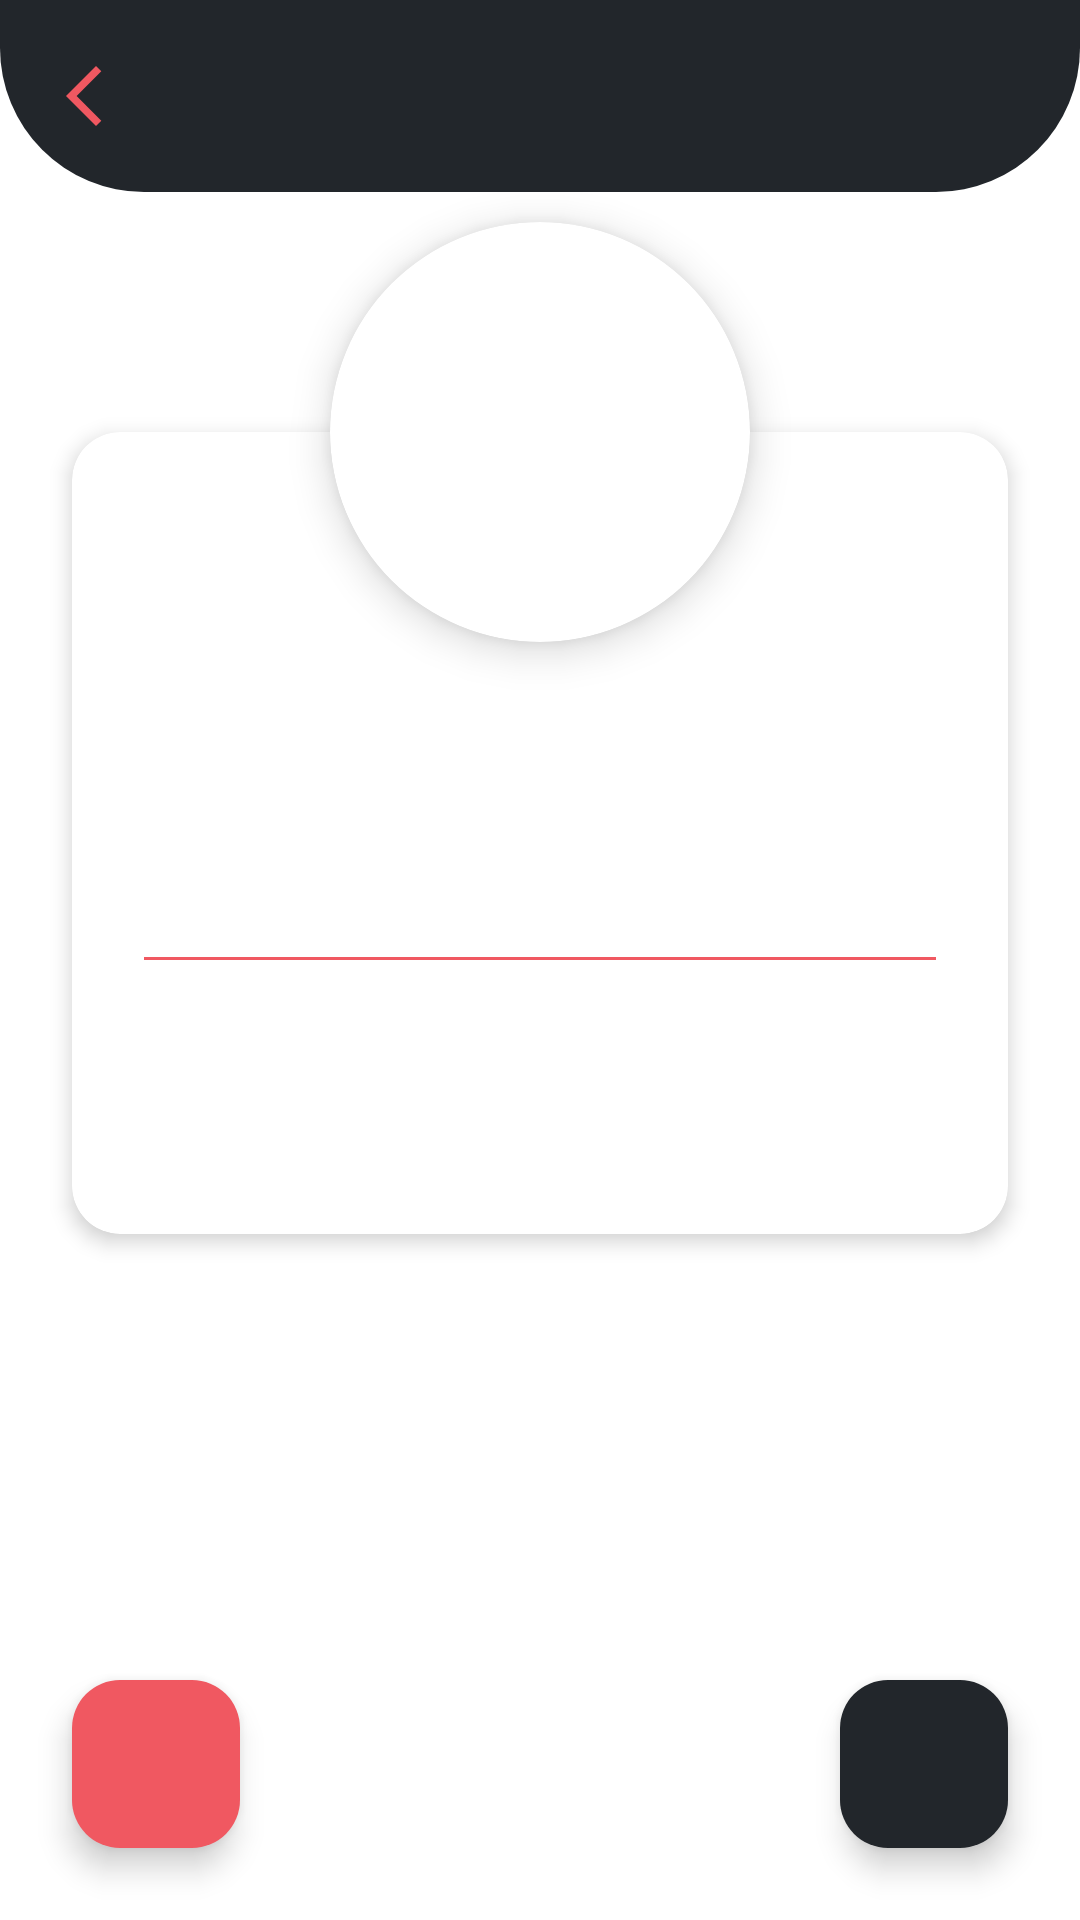

Icon bounding boxes for this 1080px x 1920px phone screenshot, format detection(x1, y1, x2, y2):
Regresar: detection(0, 50, 101, 180)
